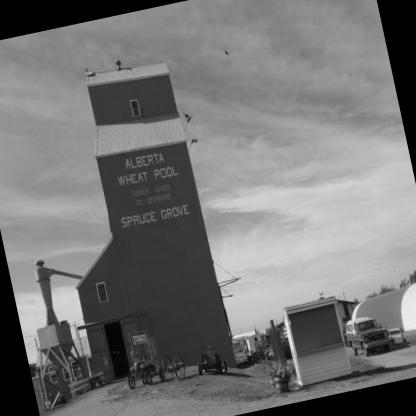truck: (342, 307, 402, 369)
